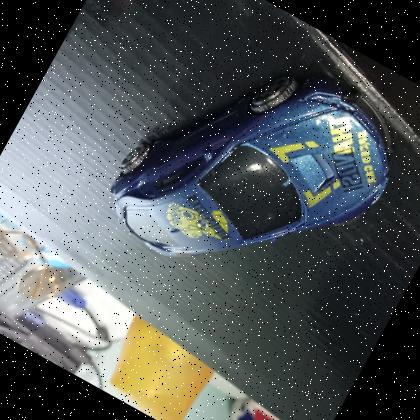Car: (88, 1, 420, 339)
